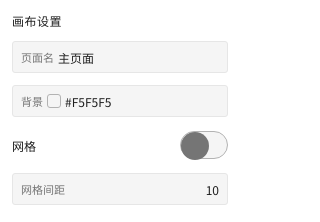
Scenario: CanvasSettings · 画布设置（C7 空选态） › 非法颜色不提交并回滚显示
The image size is (320, 222).
Replace the text in the field labelled "背景" with "zzz" at {"x": 142, "y": 101}, box [65,92,219,110]
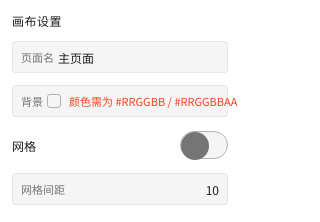
Press Enter in the field labelled "背景", box [21,93,43,109]
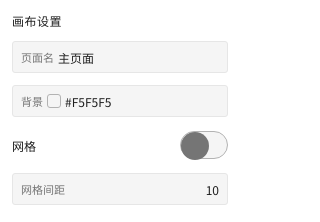
Expected: the field labelled "背景" holds "#F5F5F5", [65,92,219,110]
